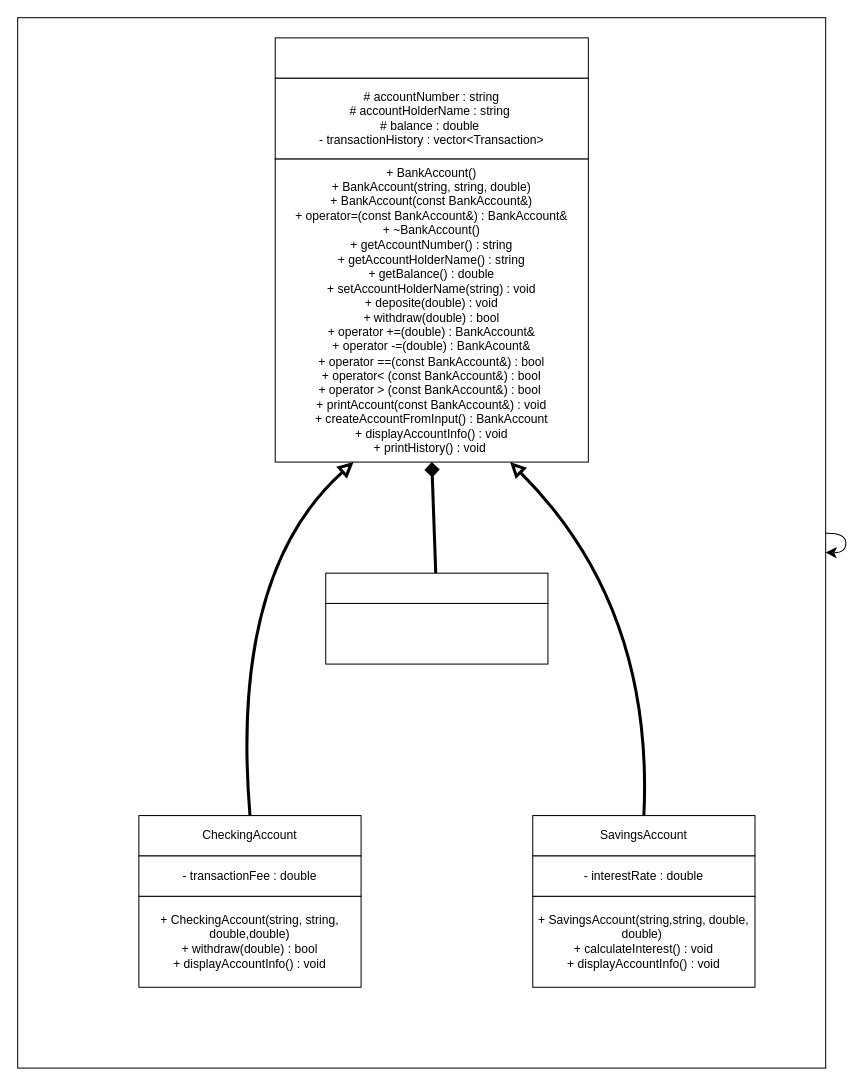
Image size: 864x1086. Some labels were removed from this diagram. Each missing label, with the centre of its shape:
+ type : string + amount : double + timestamp : string: (x=436, y=633)
BankAccount: (x=431, y=57)
Transaction: (x=436, y=587)
